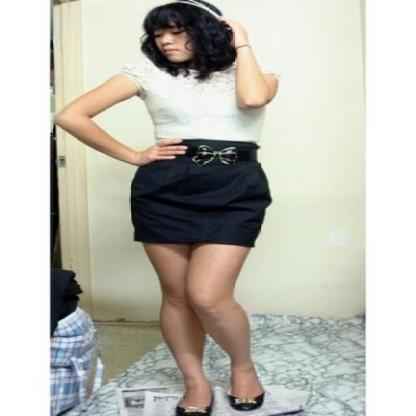shirt: (120, 53, 270, 148)
shoe: (175, 393, 263, 415)
skirt: (130, 138, 270, 250)
